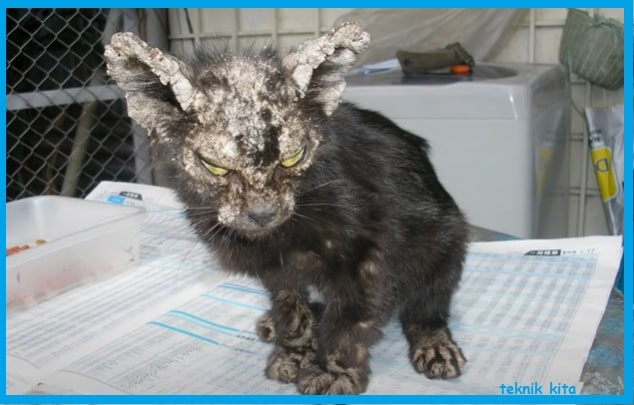kudis: (101, 18, 369, 218), (103, 16, 276, 149), (284, 14, 374, 121)
